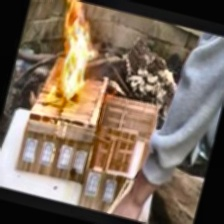fire: (34, 0, 106, 109)
